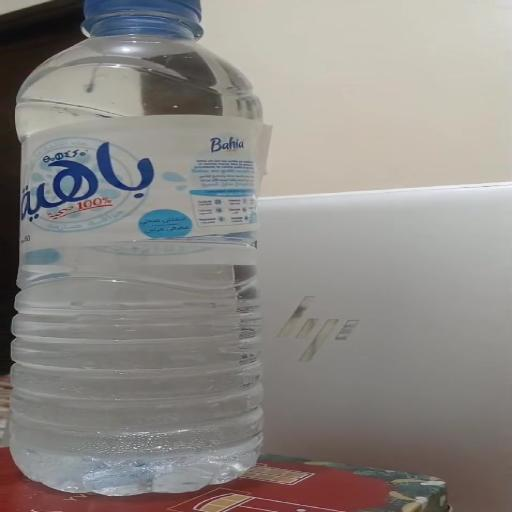bouteille conformite: (20, 12, 251, 481)
